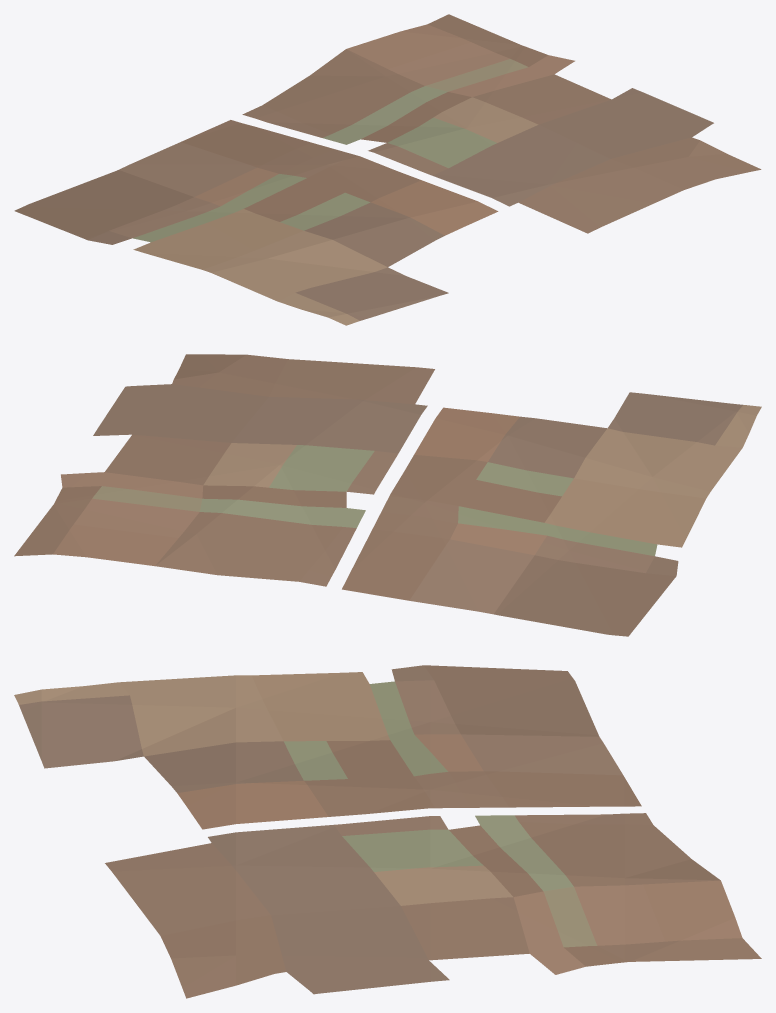
Rendered from farm_-1_16_soil.glb.
The picture shows the model from 3 angles, top to bottom: view 1: azimuth 30°, elevation 25°; view 2: azimuth 150°, elevation 25°; view 3: azimuth 270°, elevation 25°; orthographic projection. The views are drawn at different scales.
Parts seen in each view (by area): view 1: geometry_0; view 2: geometry_0; view 3: geometry_0.
Part boxes in pixels (x1,y1,x2,y2): geometry_0: (14,14,761,325); geometry_0: (14,354,761,636); geometry_0: (14,665,761,998).
Size of the model in its own units: 339 by 17.3 by 308.
